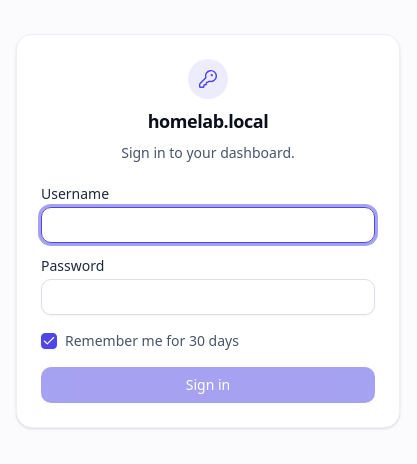
Test: LoginPage › shows the server error on rejected credentials
Type "admin" into the field labelled "Username" at (208, 225), box x1=41 y1=207 x2=375 y2=243
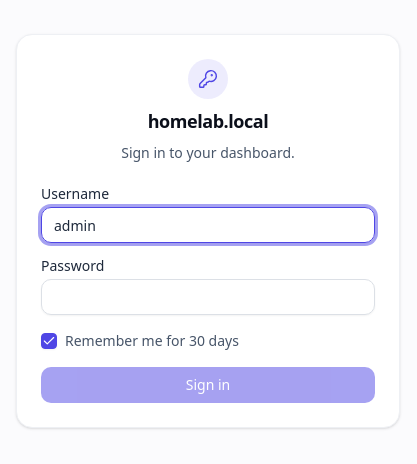
Type "wrong" into the password field labelled "Password" at (208, 297), box x1=41 y1=279 x2=375 y2=315
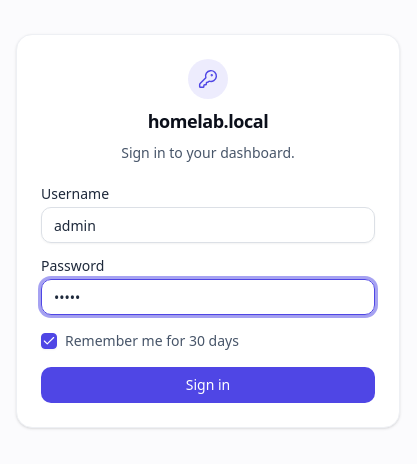
Click the button "Sign in" at (208, 385), box x1=41 y1=367 x2=375 y2=403
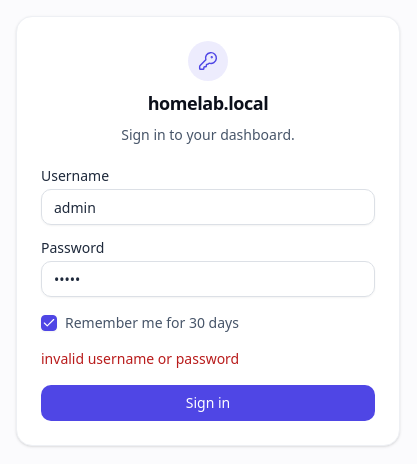
Check: the text "invalid username or password" is shown, box x1=41 y1=349 x2=239 y2=368
